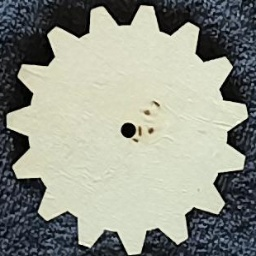Missing: (142, 107, 153, 118), (151, 98, 161, 109), (146, 127, 155, 135), (137, 125, 142, 137), (131, 137, 139, 144)
